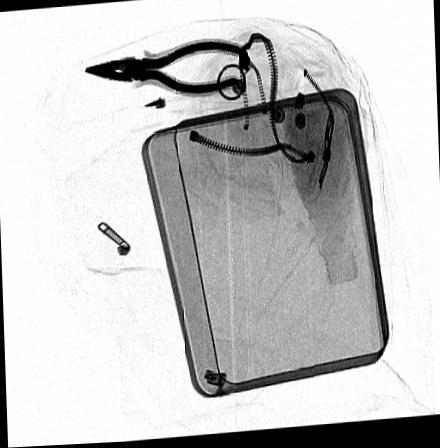Pliers: (82, 43, 246, 98)
